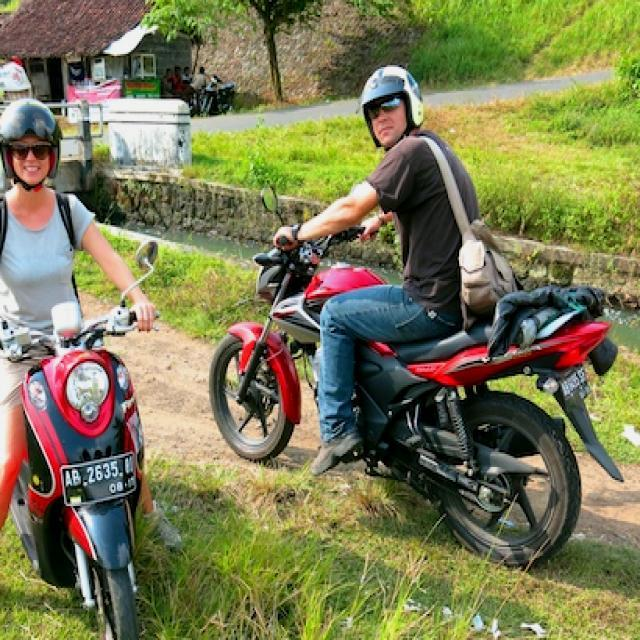Helmet: (353, 50, 431, 158), (0, 93, 80, 192)
